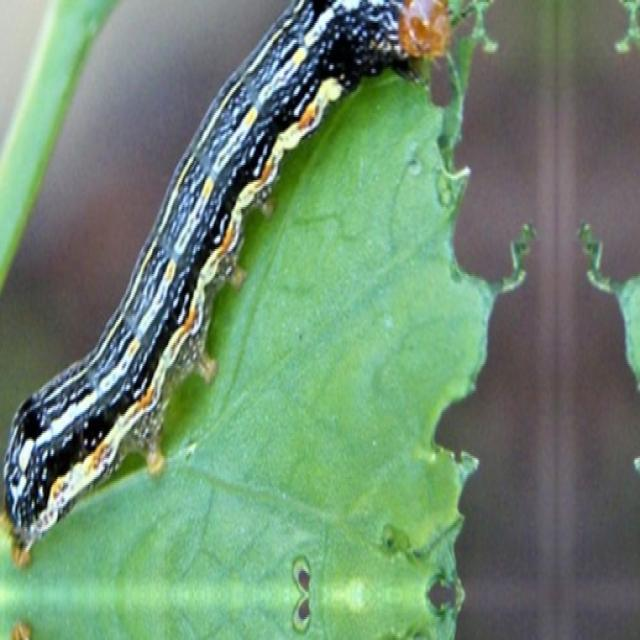armyworm: (5, 0, 457, 568)
